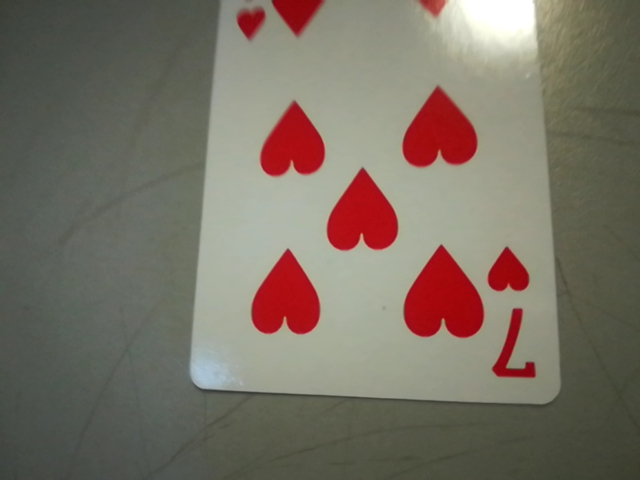hx 7: (480, 237, 554, 389)
